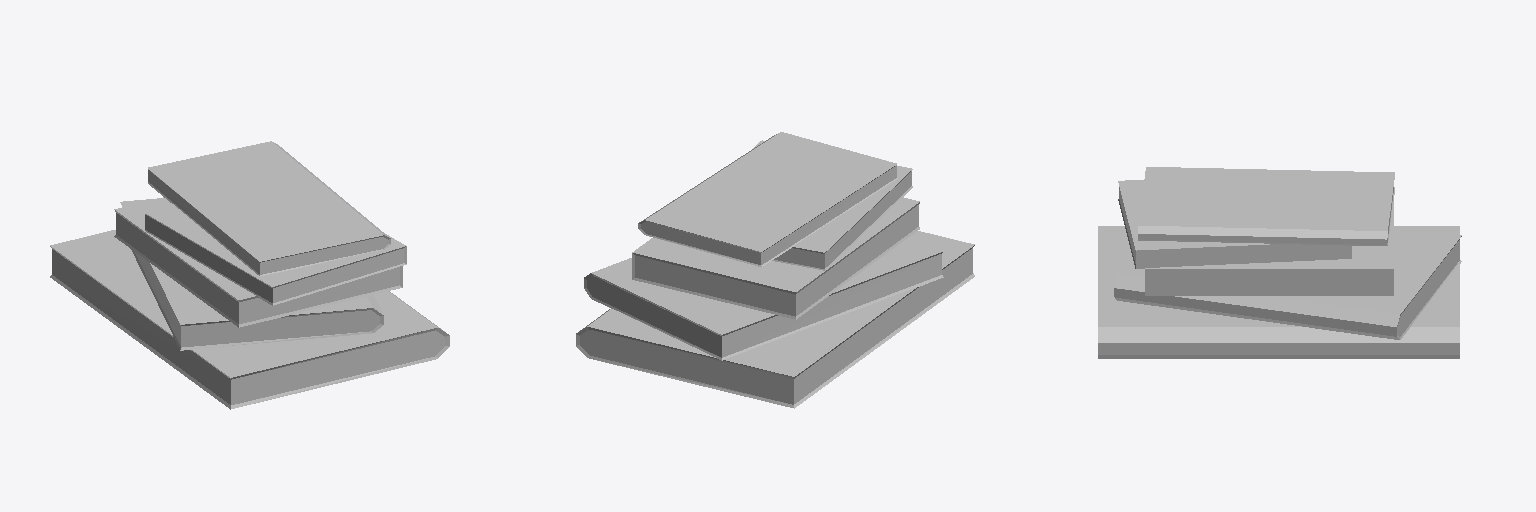
File: books04.obj
3 renders of one model, left to right at view 1: azimuth 30°, elevation 25°; view 2: azimuth 150°, elevation 25°; view 3: azimuth 270°, elevation 25°, orthographic.
Visible parts, largest first — view 1: mesh; view 2: mesh; view 3: mesh.
Boxes of the visible parts, <box> form: mesh: <box>50,141,449,409</box>; mesh: <box>576,132,974,408</box>; mesh: <box>1098,167,1461,358</box>.
Size of the model in its own units: 23.5 by 10.43 by 29.44.